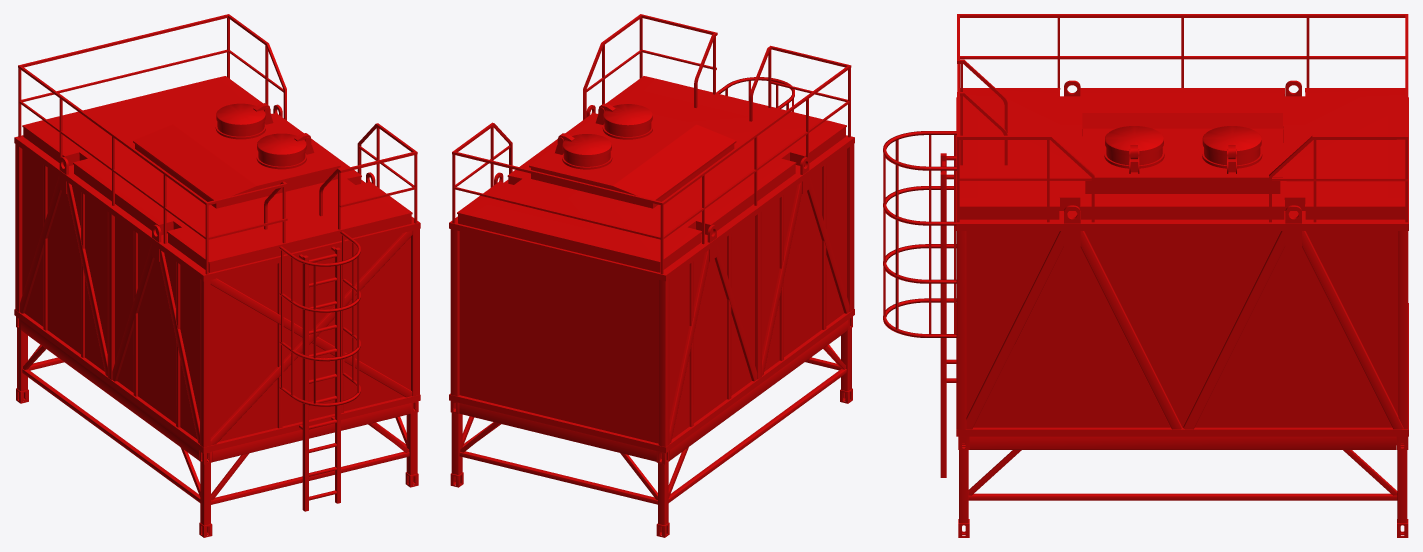
3 views of the same model, side by side, from view 1: azimuth 30°, elevation 25°; view 2: azimuth 150°, elevation 25°; view 3: azimuth 270°, elevation 25° (orthographic). The views are drawn at different scales.
Parts seen in each view (by area): view 1: Mesh; view 2: Mesh; view 3: Mesh.
Boxes of the visible parts, bbox=[...] form: Mesh: bbox=[14, 14, 420, 537]; Mesh: bbox=[449, 14, 854, 537]; Mesh: bbox=[883, 14, 1408, 537].
Bounding box in the file's own units: 3.74 × 5.51 × 6.56.
